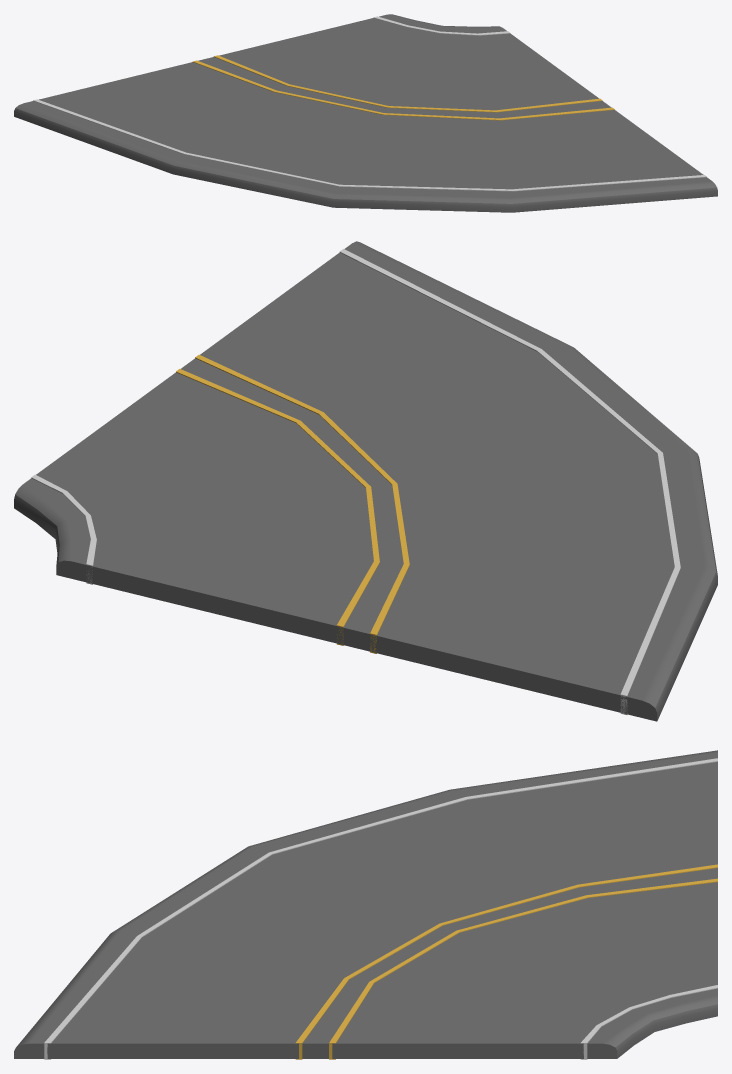
File: RoadTurn.fbx
3 renders of one model, top to bottom at view 1: azimuth 30°, elevation 25°; view 2: azimuth 150°, elevation 25°; view 3: azimuth 270°, elevation 25°, orthographic. The views are drawn at different scales.
Parts seen in each view (by area): view 1: pCube10; view 2: pCube10; view 3: pCube10.
Part boxes in pixels (x1,y1,x2,y2): pCube10: (14, 14, 717, 212); pCube10: (14, 241, 717, 721); pCube10: (14, 750, 717, 1059).
Bounding box in the file's own units: 21 × 0.55 × 21.
